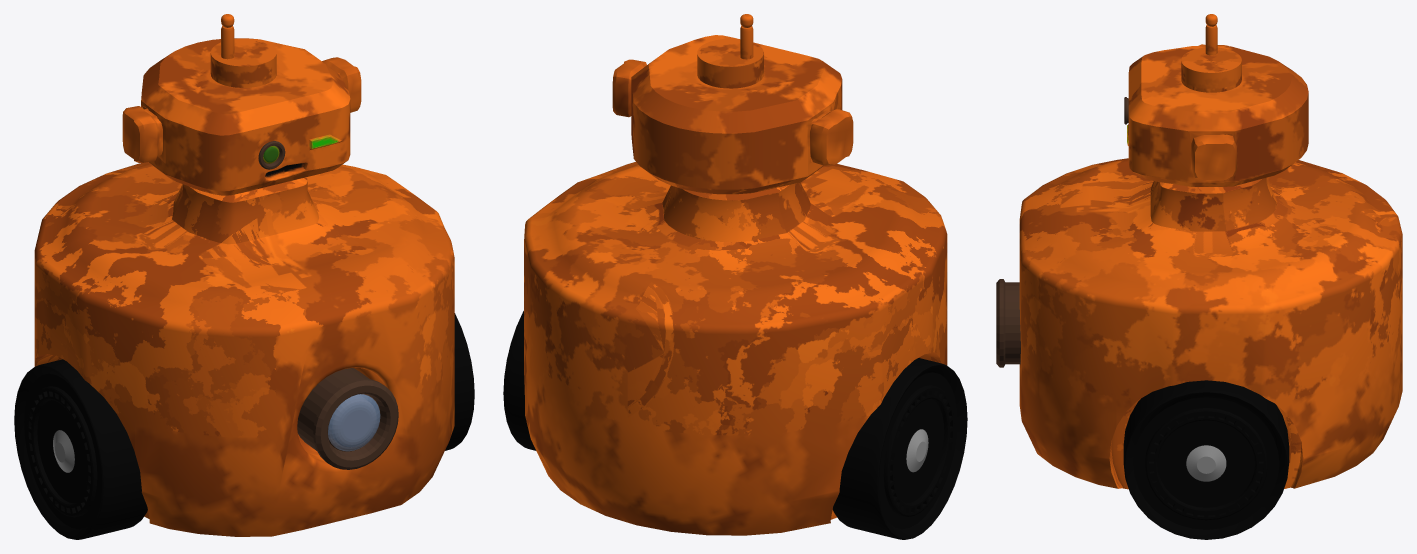
Rendered from robot.fbx.
3 renders of one model, left to right at view 1: azimuth 30°, elevation 25°; view 2: azimuth 150°, elevation 25°; view 3: azimuth 270°, elevation 25°, orthographic. The views are drawn at different scales.
Visible parts, largest first — view 1: BodyLP, Cylinder.004, Cylinder.001, Cylinder.003; view 2: BodyLP, Cylinder.004; view 3: BodyLP, Cylinder.004, Cylinder.001.
Part boxes in pixels (bbox=[...]): BodyLP: bbox=[34, 14, 454, 536]; Cylinder.004: bbox=[14, 313, 474, 539]; Cylinder.001: bbox=[297, 368, 398, 469]; Cylinder.003: bbox=[258, 141, 285, 169]; BodyLP: bbox=[524, 14, 947, 535]; Cylinder.004: bbox=[503, 311, 967, 539]; BodyLP: bbox=[1019, 14, 1402, 489]; Cylinder.004: bbox=[1123, 380, 1289, 539]; Cylinder.001: bbox=[996, 279, 1020, 367].
Size of the model in its own units: 105 by 128 by 108.
6 materials, 1 textured.
